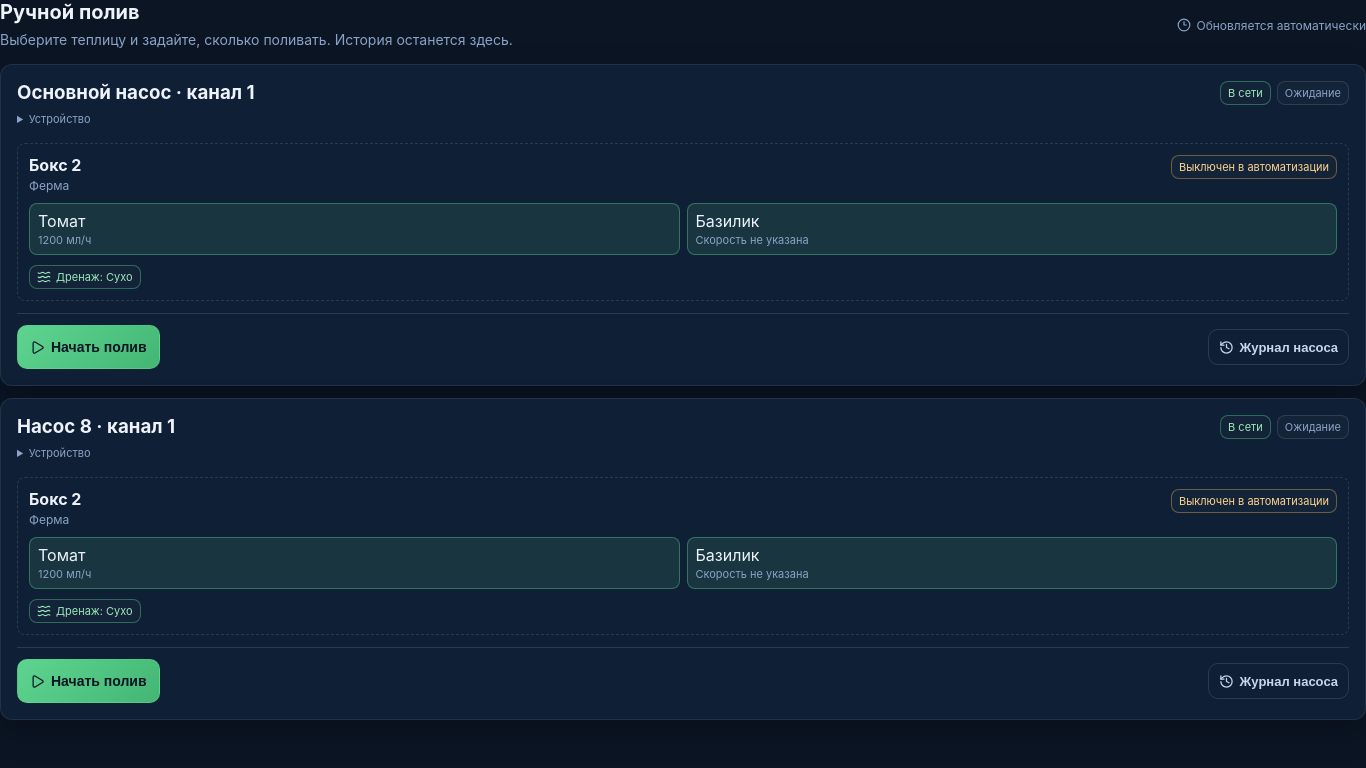
Test: AppManualWatering › otkryvaet zhurnal tolko zapushchennogo nasosa bez ozhidaniya zagruzki istorii
Click the button "Начать полив" below "Насос 8 · канал 1".
click(88, 681)  # box [17,659,160,703]
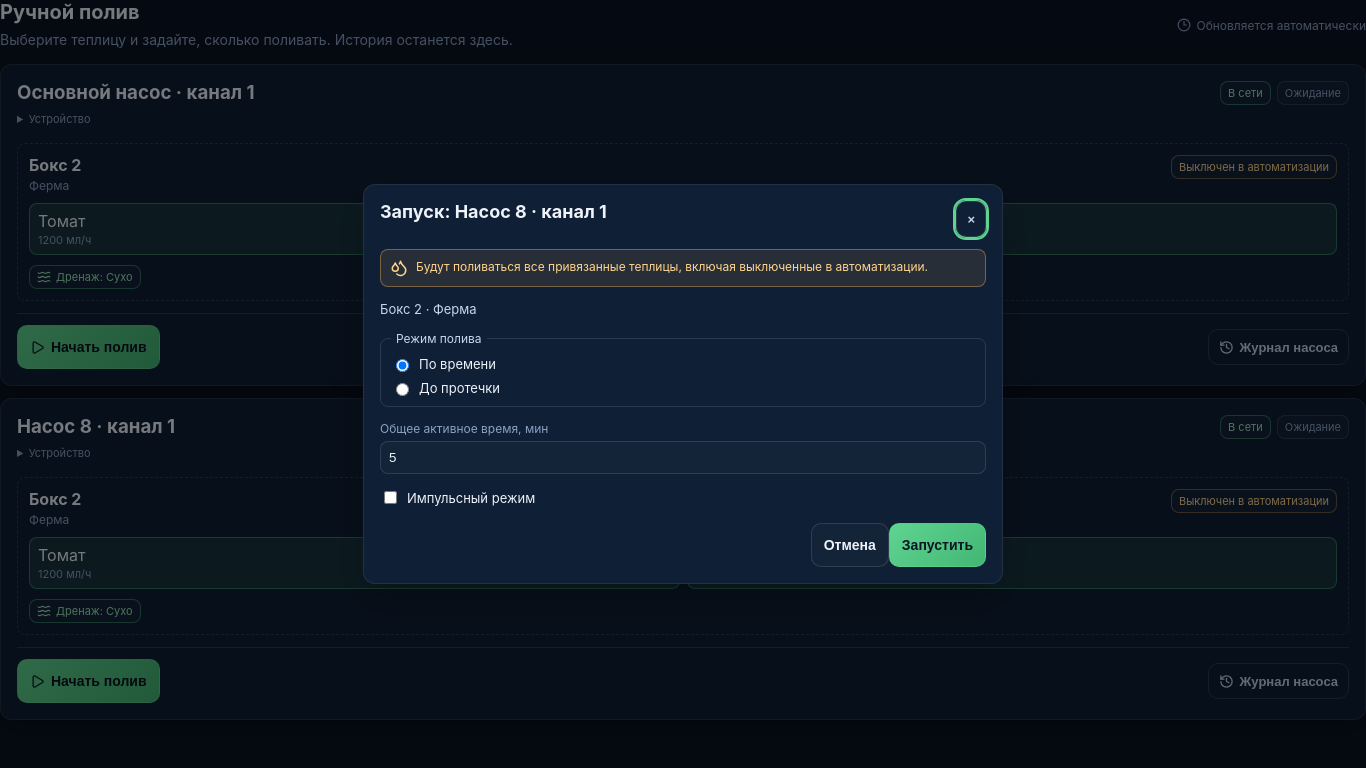
Click the button "Запустить".
click(937, 545)  # box [889,523,986,567]
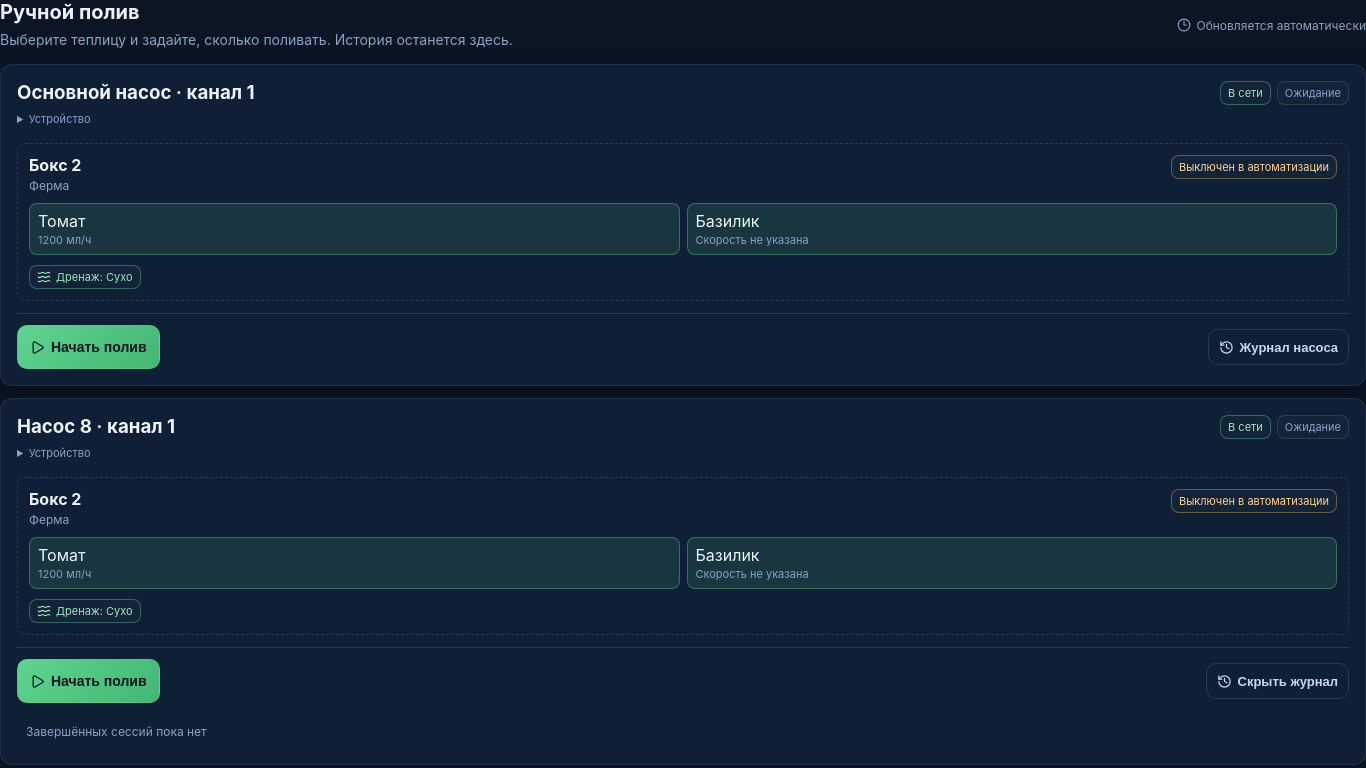
Expected: the dialog is gone
Expected: the button "Скрыть журнал" is expanded, [1206,663,1349,699]
